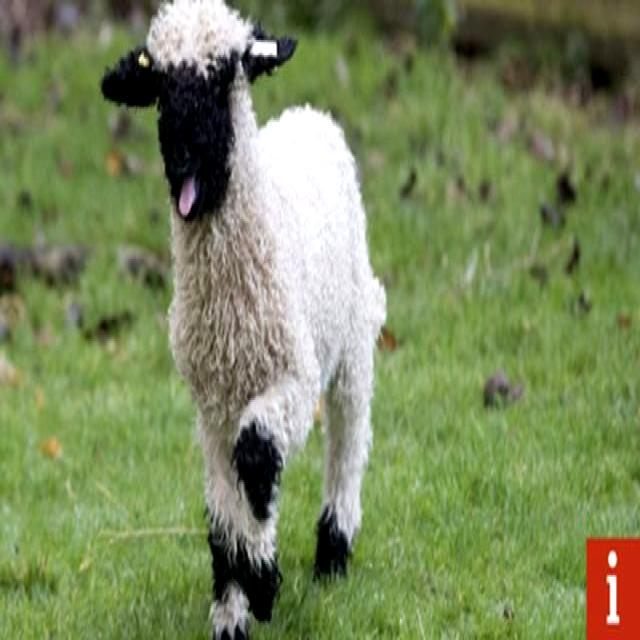sheep: (98, 1, 385, 640)
